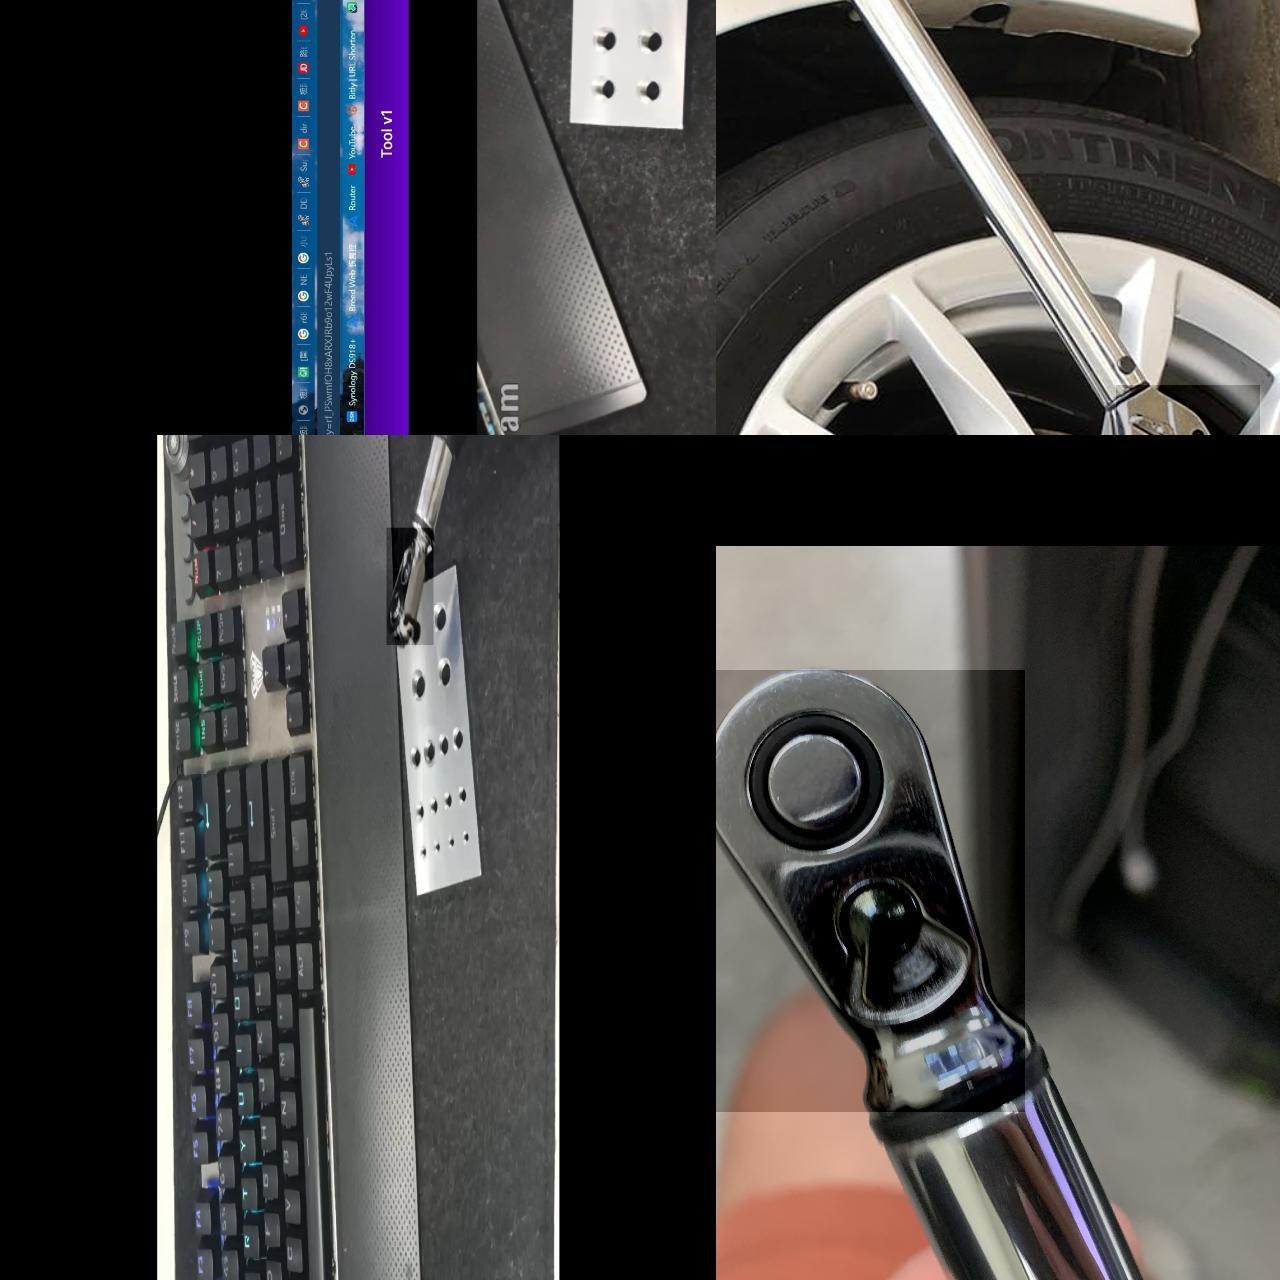Tool: (716, 670, 1024, 1112), (1115, 384, 1259, 435), (386, 527, 433, 646)
